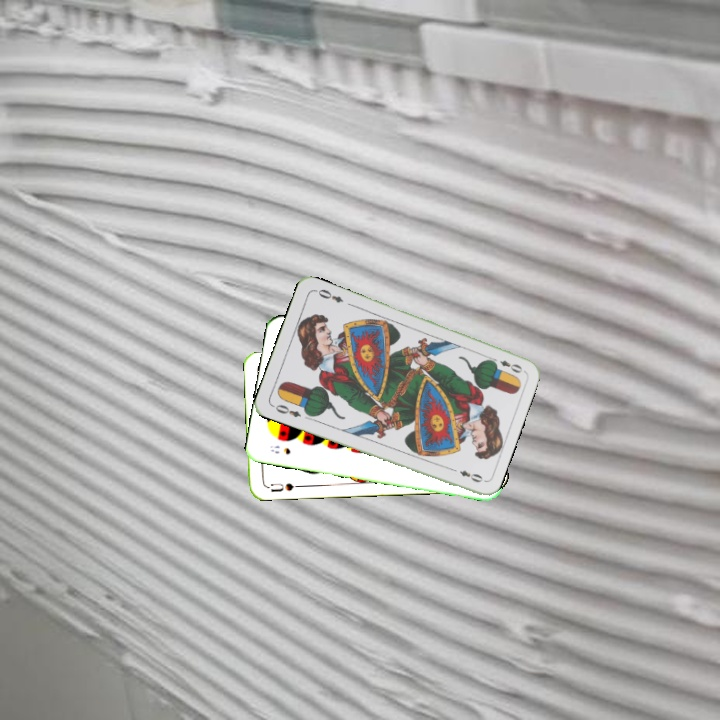EO: (486, 353, 525, 375), (268, 400, 304, 420)
S8: (266, 441, 293, 457)
SU: (263, 479, 303, 494)
